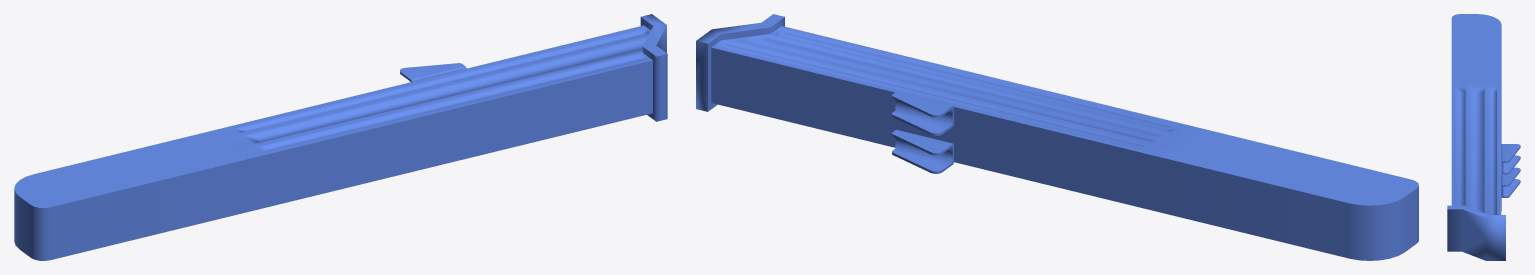
Rendered from Boom_Base.glb.
3 renders of one model, left to right at view 1: azimuth 30°, elevation 25°; view 2: azimuth 150°, elevation 25°; view 3: azimuth 270°, elevation 25°, orthographic. The views are drawn at different scales.
Visible parts, largest first — view 1: Boom_A; view 2: Boom_A; view 3: Boom_A.
Part boxes in pixels (bbox=[...]): Boom_A: bbox=[14, 14, 667, 260]; Boom_A: bbox=[696, 14, 1418, 260]; Boom_A: bbox=[1447, 14, 1520, 260].
Size of the model in its own units: 12.69 by 1.21 by 1.88.
